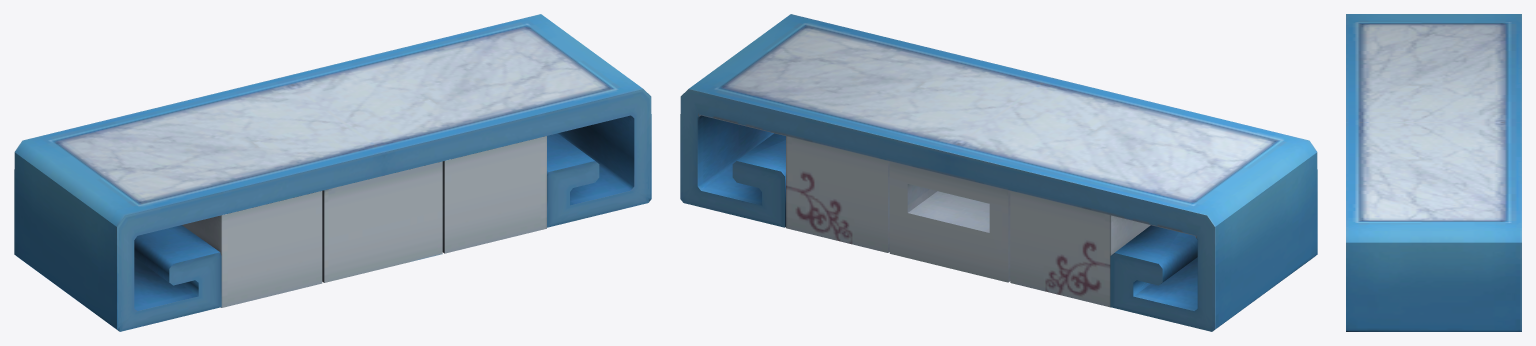
File: furni_0200505.FBX
3 views of the same model, side by side, from view 1: azimuth 30°, elevation 25°; view 2: azimuth 150°, elevation 25°; view 3: azimuth 270°, elevation 25° (orthographic). The views are drawn at different scales.
Visible parts, largest first — view 1: furni_0200505; view 2: furni_0200505; view 3: furni_0200505.
Part boxes in pixels (box(x1,y1,x2,y2)): furni_0200505: box(14, 14, 651, 331); furni_0200505: box(680, 14, 1317, 331); furni_0200505: box(1346, 14, 1521, 331).
Size of the model in its own units: 241 by 49.93 by 79.88.
1 material, 1 textured.
